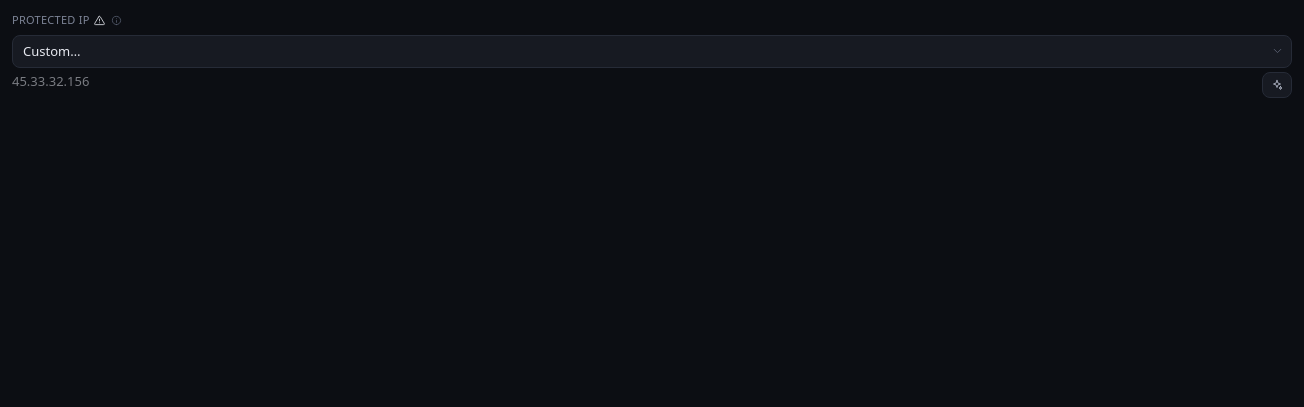
tag picker › offers tags in a choice-or-custom box that takes them
Select "Custom…" in the dropdown named "Protected IP" at (652, 51), box [12,34,1292,68]
Click the button named "Insert a tag".
click(1277, 85)  # box [1262,72,1292,98]
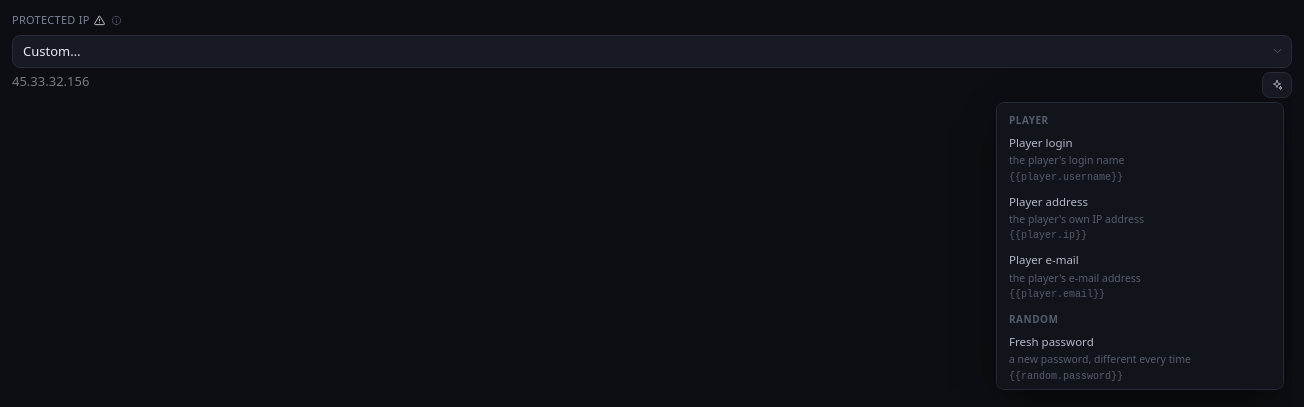
Now the text "{{player.username}}" is shown, box [1009,170,1123,185]
